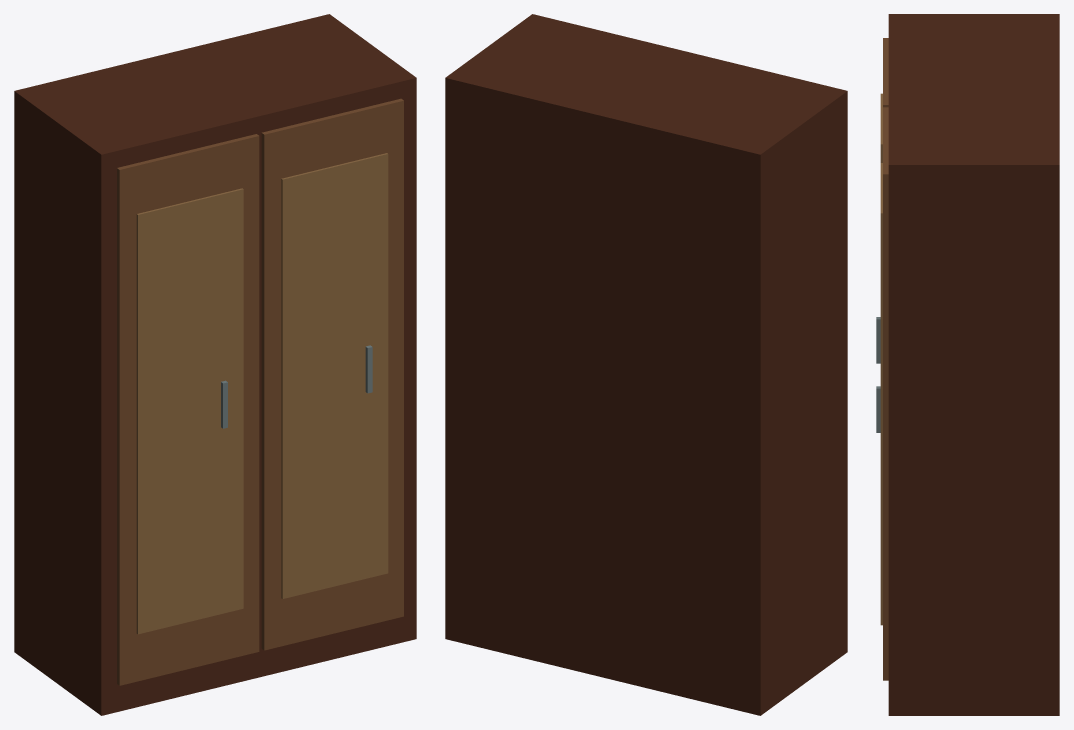
Rendered from wardrobe.glb.
3 renders of one model, left to right at view 1: azimuth 30°, elevation 25°; view 2: azimuth 150°, elevation 25°; view 3: azimuth 270°, elevation 25°, orthographic.
Parts seen in each view (by area): view 1: body, door_left, door_right; view 2: body; view 3: body, door_right, door_left.
Boxes of the visible parts, x1=… form: body: x1=14, y1=14, x2=416, y2=715; door_left: x1=117, y1=134, x2=259, y2=685; door_right: x1=261, y1=98, x2=403, y2=650; body: x1=445, y1=14, x2=847, y2=715; body: x1=888, y1=14, x2=1059, y2=715; door_right: x1=876, y1=107, x2=888, y2=680; door_left: x1=876, y1=38, x2=888, y2=363.
Bounding box in the file's own units: 1.16 × 1.98 × 0.598.
Materials: 1 (1 with a texture image).
